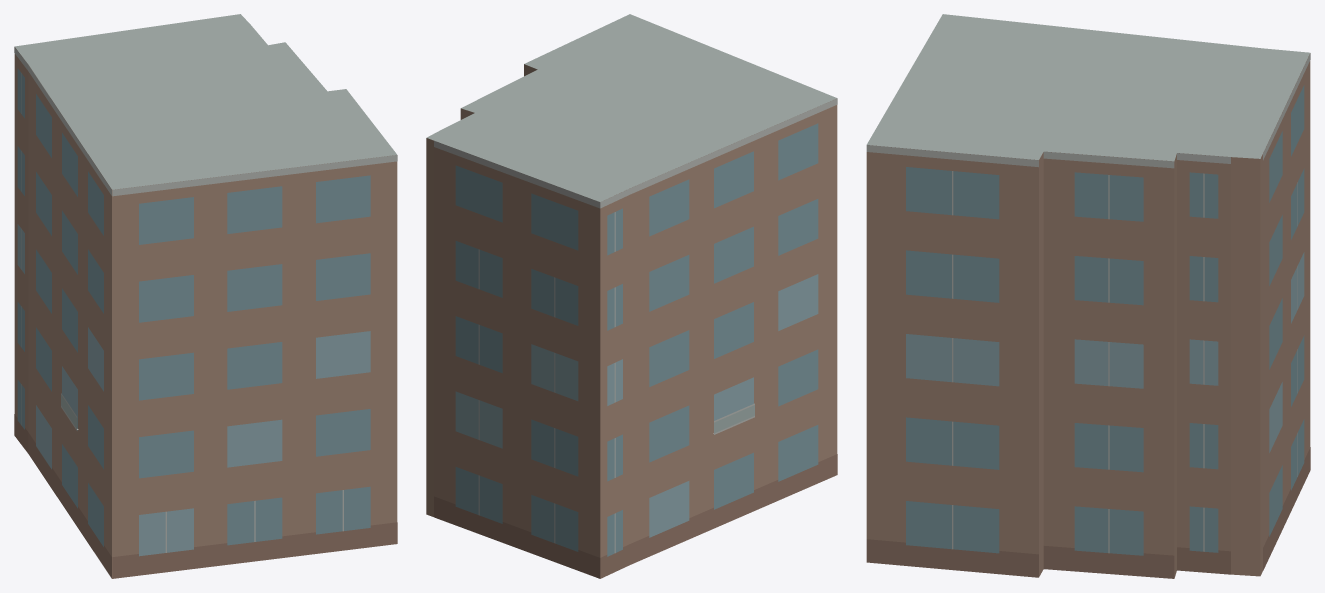
File: survey-upis-32856086.glb
3 views of the same model, side by side, from view 1: azimuth 30°, elevation 25°; view 2: azimuth 150°, elevation 25°; view 3: azimuth 270°, elevation 25° (orthographic). The views are drawn at different scales.
Visible parts, largest first — view 1: survey-upis-32856086.tmp; view 2: survey-upis-32856086.tmp; view 3: survey-upis-32856086.tmp.
Part boxes in pixels (left/top/right/bottom): survey-upis-32856086.tmp: left=14, top=14, right=397, bottom=578; survey-upis-32856086.tmp: left=426, top=14, right=837, bottom=578; survey-upis-32856086.tmp: left=866, top=14, right=1310, bottom=578.
Bounding box in the file's own units: 10.94 × 14.45 × 13.93.
